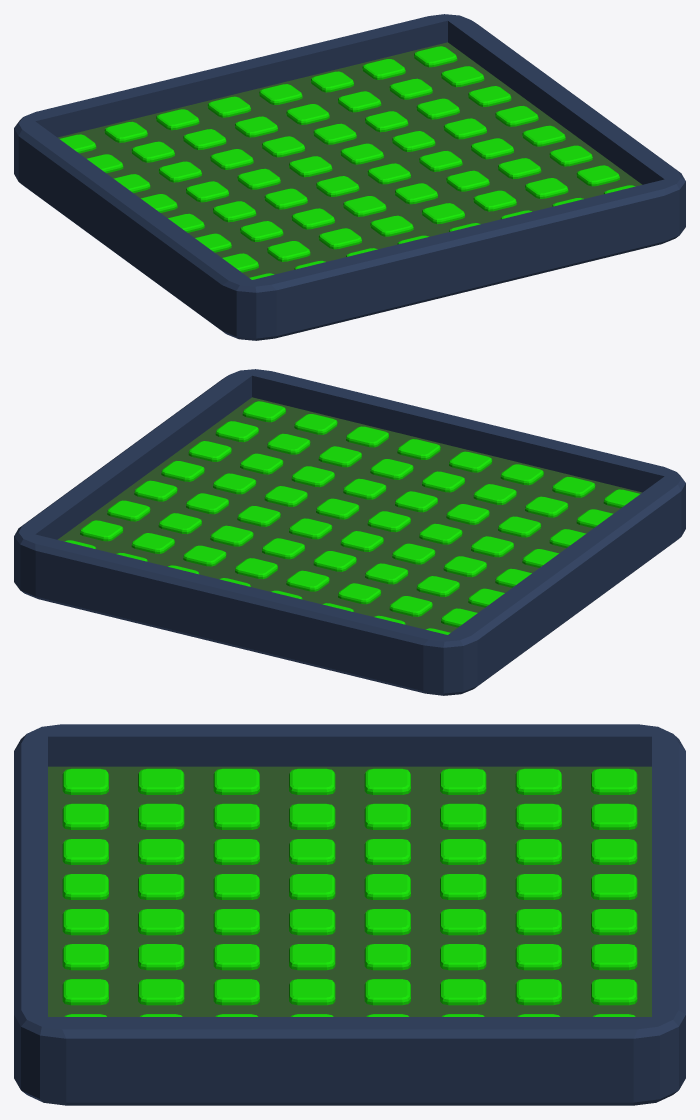
The model's file is baseu.glb.
The picture shows the model from 3 angles, top to bottom: view 1: azimuth 30°, elevation 25°; view 2: azimuth 150°, elevation 25°; view 3: azimuth 270°, elevation 25°; orthographic projection. The views are drawn at different scales.
Visible parts, largest first — view 1: Cube.002, Cube, Cube.001; view 2: Cube.002, Cube, Cube.001; view 3: Cube.002, Cube, Cube.001.
Part boxes in pixels (<box>): Cube.002: <box>14,14,685,340</box>; Cube: <box>57,42,642,277</box>; Cube.001: <box>60,46,635,279</box>; Cube.002: <box>14,369,685,695</box>; Cube: <box>57,397,642,632</box>; Cube.001: <box>64,401,639,634</box>; Cube.002: <box>14,724,685,1105</box>; Cube: <box>48,766,651,1016</box>; Cube.001: <box>62,768,637,1016</box>.
Bounding box in the file's own units: 2.35 × 0.2669 × 2.14.
